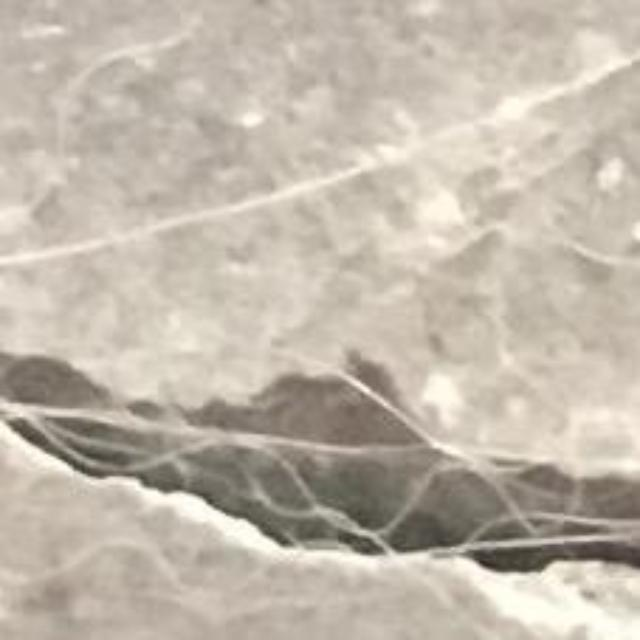crack: (0, 356, 639, 608)
